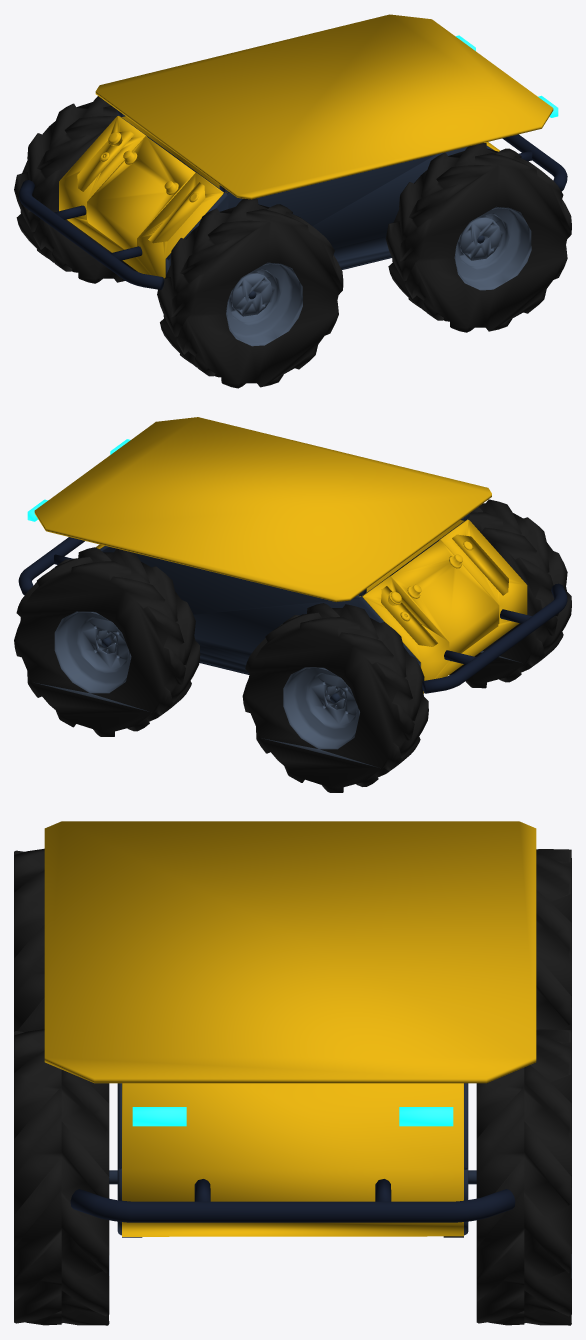
The model's file is clearpath_husky_ugv.glb.
3 views of the same model, one above another, from view 1: azimuth 30°, elevation 25°; view 2: azimuth 150°, elevation 25°; view 3: azimuth 270°, elevation 25° (orthographic). The views are drawn at different scales.
Visible parts, largest first — view 1: base_link, front_right_wheel, rear_right_wheel, rear_left_wheel; view 2: base_link, front_left_wheel, rear_left_wheel, rear_right_wheel; view 3: base_link, front_left_wheel, front_right_wheel, rear_left_wheel, rear_right_wheel.
Part boxes in pixels (<box>): base_link: <box>19,14,567,299</box>; front_right_wheel: <box>385,143,571,332</box>; rear_right_wheel: <box>157,198,343,388</box>; rear_left_wheel: <box>14,96,137,283</box>; base_link: <box>18,417,567,702</box>; front_left_wheel: <box>14,547,200,736</box>; rear_left_wheel: <box>242,603,428,792</box>; rear_right_wheel: <box>449,499,571,688</box>; base_link: <box>44,821,536,1237</box>; front_left_wheel: <box>476,1029,571,1325</box>; front_right_wheel: <box>14,1029,109,1325</box>; rear_left_wheel: <box>536,849,571,1037</box>; rear_right_wheel: <box>14,848,44,1031</box>.
Bounding box in the file's own units: 0.9849 × 0.3963 × 0.6694.
